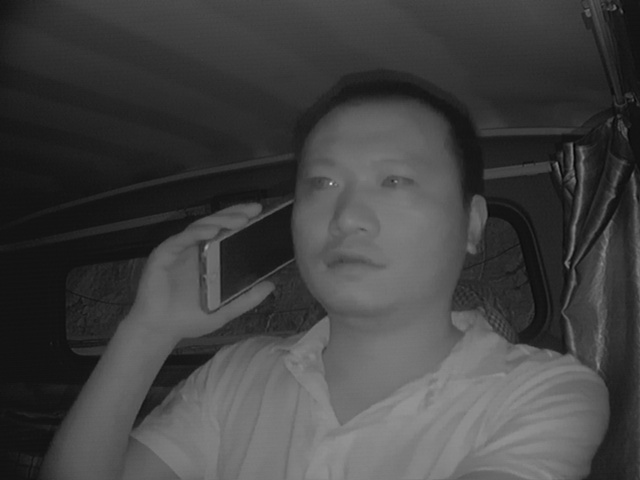hand: (140, 206, 275, 336)
